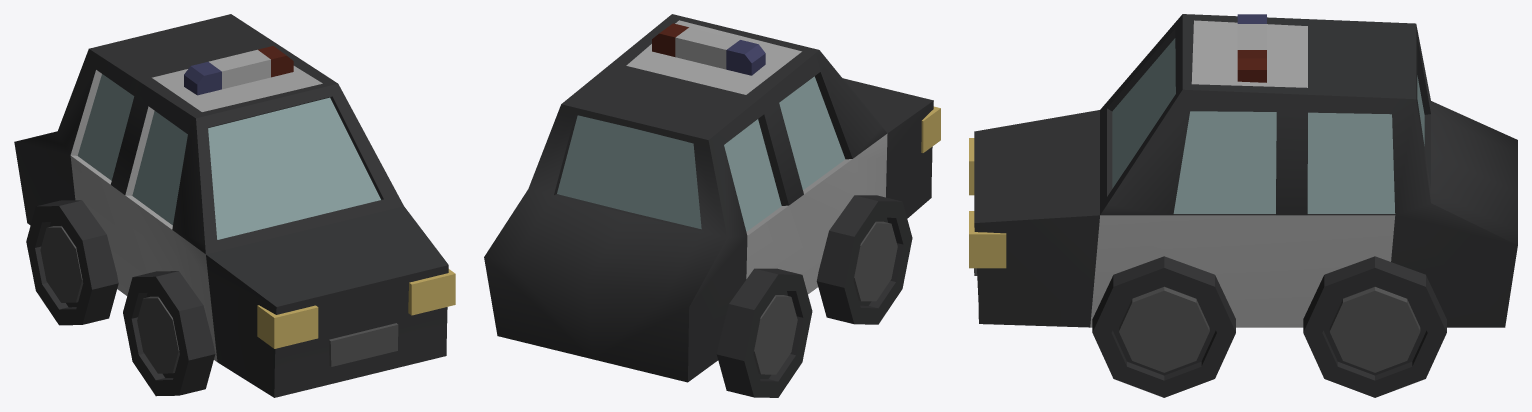
The model's file is TEMP_Car.fbx.
3 renders of one model, left to right at view 1: azimuth 30°, elevation 25°; view 2: azimuth 150°, elevation 25°; view 3: azimuth 270°, elevation 25°, orthographic. The views are drawn at different scales.
Visible parts, largest first — view 1: CopCarBody, Tire3, Tire4, Headlights, CopCarLights; view 2: CopCarBody, Tire3, Tire4, CopCarLights, Headlights; view 3: CopCarBody, Tire1, Tire2, CopCarLights, Headlights.
Boxes of the visible parts, bbox=[...] form: CopCarBody: bbox=[14, 14, 448, 397]; Tire3: bbox=[26, 200, 118, 325]; Tire4: bbox=[123, 271, 215, 396]; Headlights: bbox=[257, 269, 455, 348]; CopCarLights: bbox=[184, 46, 293, 95]; CopCarBody: bbox=[484, 14, 933, 382]; Tire3: bbox=[716, 268, 812, 397]; Tire4: bbox=[816, 195, 912, 324]; CopCarLights: bbox=[652, 23, 765, 75]; Headlights: bbox=[921, 106, 940, 152]; CopCarBody: bbox=[974, 14, 1517, 327]; Tire1: bbox=[1092, 256, 1235, 397]; Tire2: bbox=[1303, 256, 1446, 397]; CopCarLights: bbox=[1237, 14, 1266, 82]; Headlights: bbox=[969, 138, 1006, 268].
Bounding box in the file's own units: 219 × 243 × 402.
